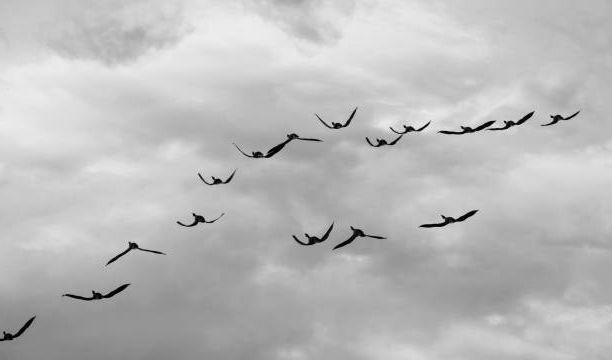Bird: (103, 238, 168, 267), (55, 281, 134, 301), (289, 217, 336, 247), (331, 224, 387, 249), (419, 208, 481, 230), (313, 105, 360, 134), (228, 138, 286, 159), (0, 313, 37, 344), (487, 110, 535, 133), (195, 167, 241, 187), (174, 210, 225, 228), (436, 120, 496, 134), (278, 131, 326, 145), (386, 120, 433, 134), (358, 133, 404, 147), (540, 110, 580, 126)
